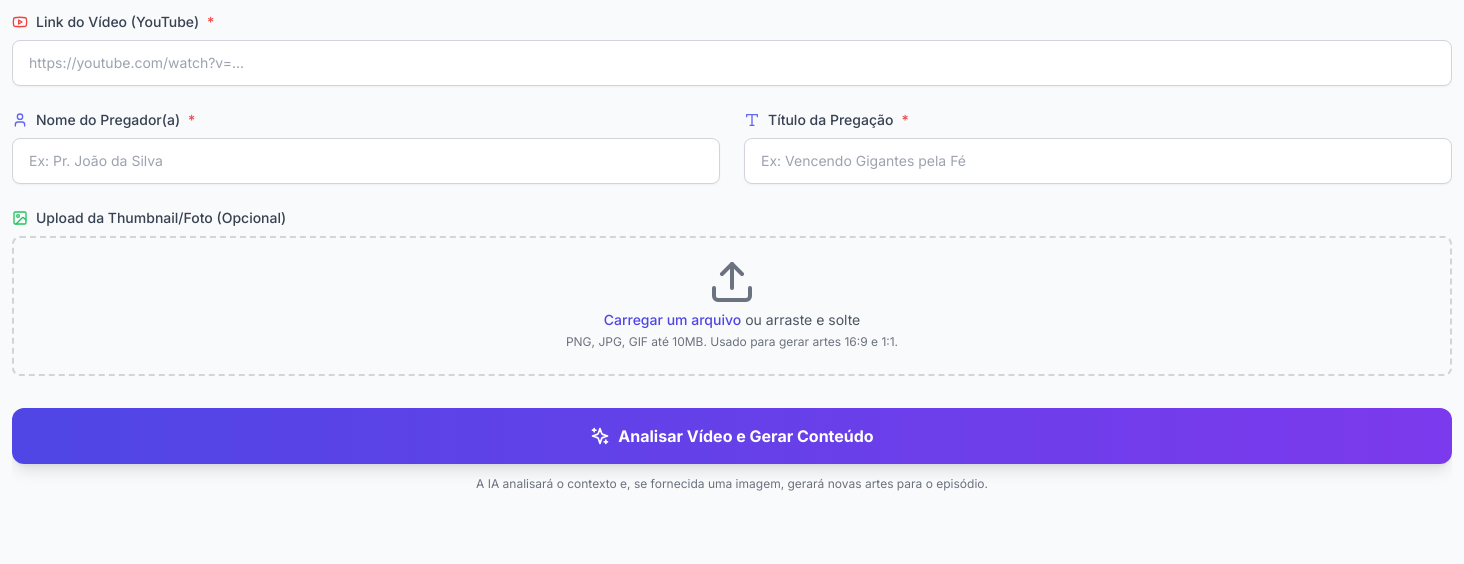
SermonForm › inline form validation › shows inline error when all fields are empty on submit
Click the button "Analisar Vídeo e Gerar Conteúdo".
click(732, 436)  # box [12,408,1452,464]
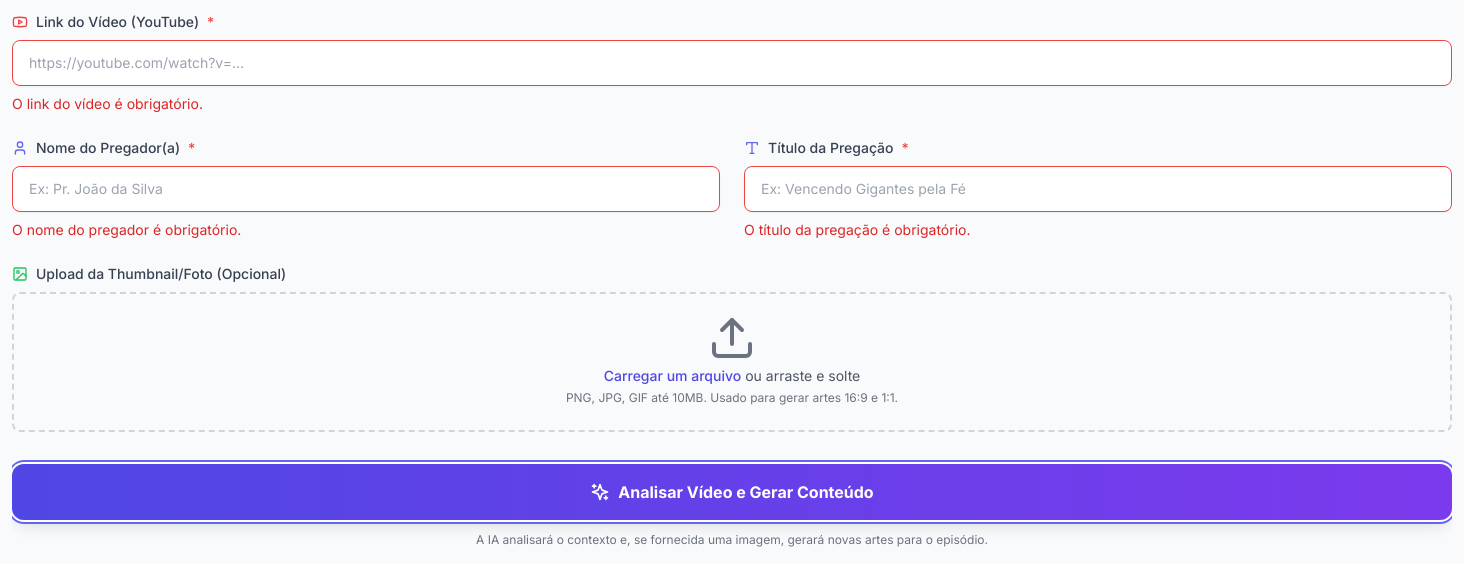
Check: the text "O link do vídeo é obrigatório." is shown, box [12,95,203,112]
Check: the text "O nome do pregador é obrigatório." is shown, box [12,221,241,238]
Check: the text "O título da pregação é obrigatório." is shown, box [744,221,970,238]
